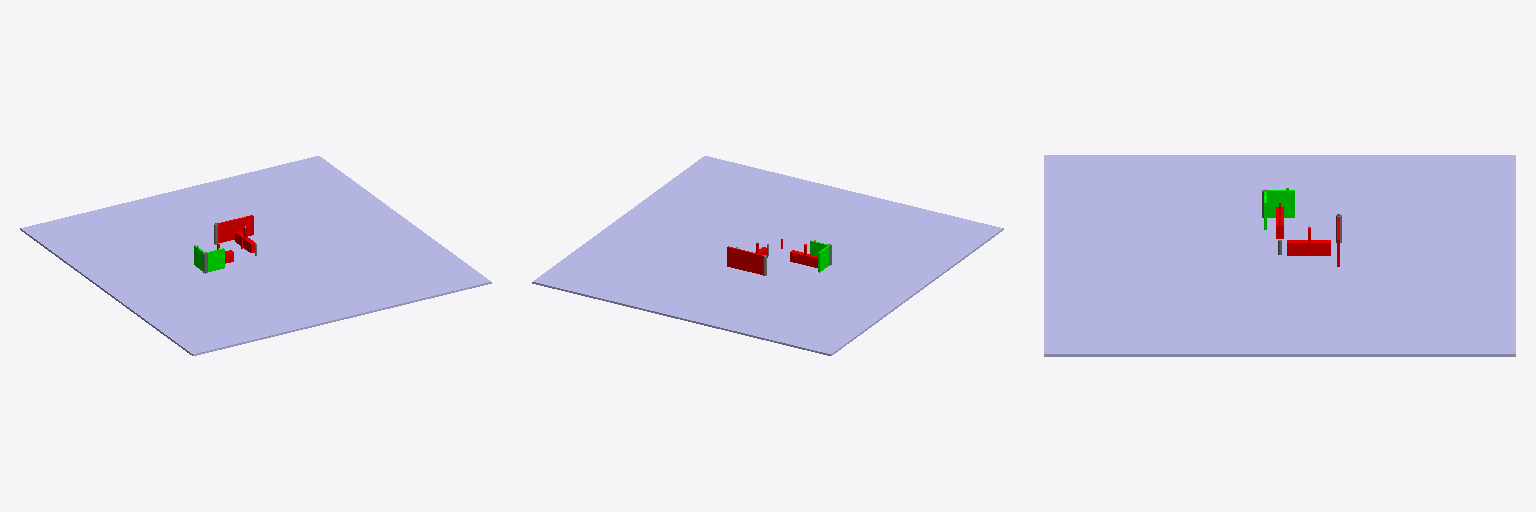
robot.urdf — lockbox2017:
<?xml version="1.0"?>
<!-- created with Phobos 1.0.1 "Capricious Choutengan" -->
  <robot name="lockbox2017">

    <link name="base_link">
      <inertial>
        <origin xyz="0 0 0" rpy="0 0 0"/>
        <mass value="0.001"/>
        <inertia ixx="0.001" ixy="0" ixz="0" iyy="0.001" iyz="0" izz="0.001"/>
      </inertial>
    </link>

    <link name="goal">
      <inertial>
        <origin xyz="0 0 0" rpy="0 0 0"/>
        <mass value="0.001"/>
        <inertia ixx="0.001" ixy="0" ixz="0" iyy="0.001" iyz="0" izz="0.001"/>
      </inertial>
      <visual name="visual_cylinder_1_link_0.001">
        <origin xyz="0 0 0" rpy="0 0 0"/>
        <geometry>
          <cylinder radius="0.19651" length="1.98503"/>
        </geometry>
        <material name="green_translucent"/>
      </visual>
    </link>

    <link name="link_0_joint_0">
      <inertial>
        <origin xyz="0 0 0" rpy="0 0 0"/>
        <mass value="0.001"/>
        <inertia ixx="0.001" ixy="0" ixz="0" iyy="0.001" iyz="0" izz="0.001"/>
      </inertial>
      <visual name="visual_cylinder_1_link_0">
        <origin xyz="0 0 0" rpy="0 0 0"/>
        <geometry>
          <cylinder radius="0.1975" length="1.995"/>
        </geometry>
        <material name="gray"/>
      </visual>
      <collision name="collision_cylinder_1_link_0">
        <origin xyz="0 0 0" rpy="0 0 0"/>
        <geometry>
          <cylinder radius="0.1975" length="1.995"/>
        </geometry>
      </collision>
    </link>

    <link name="link_1_joint_0">
      <inertial>
        <origin xyz="0 0 0" rpy="0 0 0"/>
        <mass value="0.001"/>
        <inertia ixx="0.001" ixy="0" ixz="0" iyy="0.001" iyz="0" izz="0.001"/>
      </inertial>
      <visual name="visual_box_5_link_1">
        <origin xyz="0 0 0" rpy="0 0 0"/>
        <geometry>
          <box size="2.995 0.495 0.995"/>
        </geometry>
        <material name="red"/>
      </visual>
      <collision name="collision_box_5_link_1">
        <origin xyz="0 0 0" rpy="0 0 0"/>
        <geometry>
          <box size="2.995 0.495 0.995"/>
        </geometry>
      </collision>
    </link>

    <link name="link_2_joint_0">
      <inertial>
        <origin xyz="0 0 0" rpy="0 0 0"/>
        <mass value="0.001"/>
        <inertia ixx="0.001" ixy="0" ixz="0" iyy="0.001" iyz="0" izz="0.001"/>
      </inertial>
      <visual name="visual_mesh_8_link_2">
        <origin xyz="0 0 0" rpy="0 0 0"/>
        <geometry>
          <mesh filename="file://[local-path]/ba/puzzle-generator/puzzles/lockbox2017/meshes/stl/slot_disc.stl" scale="1.0 1.0 1.0"/>
        </geometry>
        <material name="red"/>
      </visual>
      <collision concave="yes" name="collision_mesh_8_link_2">
        <origin xyz="0 0 0" rpy="0 0 0"/>
        <geometry>
          <mesh filename="file://[local-path]/ba/puzzle-generator/puzzles/lockbox2017/meshes/stl/slot_disc.001.stl" scale="1.0 1.0 1.0"/>
        </geometry>
      </collision>
    </link>

    <link name="link_3_joint_0">
      <inertial>
        <origin xyz="0 0 0" rpy="0 0 0"/>
        <mass value="0.001"/>
        <inertia ixx="0.001" ixy="0" ixz="0" iyy="0.001" iyz="0" izz="0.001"/>
      </inertial>
      <visual name="visual_box_12_link_3">
        <origin xyz="0 0 0" rpy="0 0 0"/>
        <geometry>
          <box size="2.995 0.495 0.995"/>
        </geometry>
        <material name="red"/>
      </visual>
      <collision name="collision_box_12_link_3">
        <origin xyz="0 0 0" rpy="0 0 0"/>
        <geometry>
          <box size="2.995 0.495 0.995"/>
        </geometry>
      </collision>
    </link>

    <link name="link_4_joint_0">
      <inertial>
        <origin xyz="0 0 0" rpy="0 0 0"/>
        <mass value="0.001"/>
        <inertia ixx="0.001" ixy="0" ixz="0" iyy="0.001" iyz="0" izz="0.001"/>
      </inertial>
      <visual name="visual_cylinder_15_link_4">
        <origin xyz="0 0 0" rpy="0 0 0"/>
        <geometry>
          <cylinder radius="0.1975" length="1.995"/>
        </geometry>
        <material name="gray"/>
      </visual>
      <collision name="collision_cylinder_15_link_4">
        <origin xyz="0 0 0" rpy="0 0 0"/>
        <geometry>
          <cylinder radius="0.1975" length="1.995"/>
        </geometry>
      </collision>
    </link>

    <link name="link_fixed_0_floor">
      <inertial>
        <origin xyz="0 0 0" rpy="0 0 0"/>
        <mass value="0.001"/>
        <inertia ixx="0.001" ixy="0" ixz="0" iyy="0.001" iyz="0" izz="0.001"/>
      </inertial>
      <visual name="visual_box_fixed_0_floor">
        <origin xyz="0 0 0" rpy="0 0 0"/>
        <geometry>
          <box size="31.995 31.995 0.195"/>
        </geometry>
        <material name="lavender"/>
      </visual>
      <collision name="collision_box_fixed_0_floor">
        <origin xyz="0 0 0" rpy="0 0 0"/>
        <geometry>
          <box size="31.995 31.995 0.195"/>
        </geometry>
      </collision>
    </link>

    <link name="link_fixed_10_handle_shaft">
      <inertial>
        <origin xyz="0 0 0" rpy="0 0 0"/>
        <mass value="0.001"/>
        <inertia ixx="0.001" ixy="0" ixz="0" iyy="0.001" iyz="0" izz="0.001"/>
      </inertial>
      <visual name="visual_cylinder_fixed_10_handle_shaft">
        <origin xyz="0 0 0" rpy="0 0 0"/>
        <geometry>
          <cylinder radius="0.0975" length="0.995"/>
        </geometry>
        <material name="red"/>
      </visual>
      <collision name="collision_cylinder_fixed_10_handle_shaft">
        <origin xyz="0 0 0" rpy="0 0 0"/>
        <geometry>
          <cylinder radius="0.0975" length="0.995"/>
        </geometry>
      </collision>
    </link>

    <link name="link_fixed_11_handle_knob">
      <inertial>
        <origin xyz="0 0 0" rpy="0 0 0"/>
        <mass value="0.001"/>
        <inertia ixx="0.001" ixy="0" ixz="0" iyy="0.001" iyz="0" izz="0.001"/>
      </inertial>
      <visual name="visual_box_fixed_11_handle_knob">
        <origin xyz="0 0 0" rpy="0 0 0"/>
        <geometry>
          <box size="0.045 0.045 0.195"/>
        </geometry>
        <material name="yellow"/>
      </visual>
      <collision name="collision_box_fixed_11_handle_knob">
        <origin xyz="0 0 0" rpy="0 0 0"/>
        <geometry>
          <box size="0.045 0.045 0.195"/>
        </geometry>
      </collision>
    </link>

    <link name="link_fixed_13_handle_shaft">
      <inertial>
        <origin xyz="0 0 0" rpy="0 0 0"/>
        <mass value="0.001"/>
        <inertia ixx="0.001" ixy="0" ixz="0" iyy="0.001" iyz="0" izz="0.001"/>
      </inertial>
      <visual name="visual_box_fixed_13_handle_shaft">
        <origin xyz="0 0 0" rpy="0 0 0"/>
        <geometry>
          <box size="0.195 0.195 0.995"/>
        </geometry>
        <material name="red"/>
      </visual>
      <collision name="collision_box_fixed_13_handle_shaft">
        <origin xyz="0 0 0" rpy="0 0 0"/>
        <geometry>
          <box size="0.195 0.195 0.995"/>
        </geometry>
      </collision>
    </link>

    <link name="link_fixed_14_handle_knob">
      <inertial>
        <origin xyz="0 0 0" rpy="0 0 0"/>
        <mass value="0.001"/>
        <inertia ixx="0.001" ixy="0" ixz="0" iyy="0.001" iyz="0" izz="0.001"/>
      </inertial>
      <visual name="visual_box_fixed_14_handle_knob">
        <origin xyz="0 0 0" rpy="0 0 0"/>
        <geometry>
          <box size="0.045 0.045 0.195"/>
        </geometry>
        <material name="yellow"/>
      </visual>
      <collision name="collision_box_fixed_14_handle_knob">
        <origin xyz="0 0 0" rpy="0 0 0"/>
        <geometry>
          <box size="0.045 0.045 0.195"/>
        </geometry>
      </collision>
    </link>

    <link name="link_fixed_16_hinge">
      <inertial>
        <origin xyz="0 0 0" rpy="0 0 0"/>
        <mass value="0.001"/>
        <inertia ixx="0.001" ixy="0" ixz="0" iyy="0.001" iyz="0" izz="0.001"/>
      </inertial>
      <visual name="visual_cylinder_fixed_16_hinge">
        <origin xyz="0 0 0" rpy="0 0 0"/>
        <geometry>
          <cylinder radius="0.0475" length="2.195"/>
        </geometry>
        <material name="gray"/>
      </visual>
    </link>

    <link name="link_fixed_17_door_panel">
      <inertial>
        <origin xyz="0 0 0" rpy="0 0 0"/>
        <mass value="0.001"/>
        <inertia ixx="0.001" ixy="0" ixz="0" iyy="0.001" iyz="0" izz="0.001"/>
      </inertial>
      <visual name="visual_box_fixed_17_door_panel">
        <origin xyz="0 0 0" rpy="0 0 0"/>
        <geometry>
          <box size="3.995 0.195 1.99"/>
        </geometry>
        <material name="red"/>
      </visual>
      <collision name="collision_box_fixed_17_door_panel">
        <origin xyz="0 0 0" rpy="0 0 0"/>
        <geometry>
          <box size="3.995 0.195 1.99"/>
        </geometry>
      </collision>
    </link>

    <link name="link_fixed_18_door_handle">
      <inertial>
        <origin xyz="0 0 0" rpy="0 0 0"/>
        <mass value="0.001"/>
        <inertia ixx="0.001" ixy="0" ixz="0" iyy="0.001" iyz="0" izz="0.001"/>
      </inertial>
      <visual name="visual_box_fixed_18_door_handle">
        <origin xyz="0 0 0" rpy="0 0 0"/>
        <geometry>
          <box size="0.195 0.045 0.195"/>
        </geometry>
        <material name="yellow"/>
      </visual>
      <collision name="collision_box_fixed_18_door_handle">
        <origin xyz="0 0 0" rpy="0 0 0"/>
        <geometry>
          <box size="0.195 0.045 0.195"/>
        </geometry>
      </collision>
    </link>

    <link name="link_fixed_2_hinge">
      <inertial>
        <origin xyz="0 0 0" rpy="0 0 0"/>
        <mass value="0.001"/>
        <inertia ixx="0.001" ixy="0" ixz="0" iyy="0.001" iyz="0" izz="0.001"/>
      </inertial>
      <visual name="visual_cylinder_fixed_2_hinge">
        <origin xyz="0 0 0" rpy="0 0 0"/>
        <geometry>
          <cylinder radius="0.0475" length="2.195"/>
        </geometry>
        <material name="gray"/>
      </visual>
    </link>

    <link name="link_fixed_2_hinge.001">
      <inertial>
        <origin xyz="0 0 0" rpy="0 0 0"/>
        <mass value="0.001"/>
        <inertia ixx="0.001" ixy="0" ixz="0" iyy="0.001" iyz="0" izz="0.001"/>
      </inertial>
      <visual name="visual_cylinder_fixed_2_hinge.001">
        <origin xyz="0 0 0" rpy="0 0 0"/>
        <geometry>
          <cylinder radius="0.04726" length="2.18403"/>
        </geometry>
        <material name="green_translucent"/>
      </visual>
    </link>

    <link name="link_fixed_3_door_panel">
      <inertial>
        <origin xyz="0 0 0" rpy="0 0 0"/>
        <mass value="0.001"/>
        <inertia ixx="0.001" ixy="0" ixz="0" iyy="0.001" iyz="0" izz="0.001"/>
      </inertial>
      <visual name="visual_box_fixed_3_door_panel">
        <origin xyz="0 0 0" rpy="0 0 0"/>
        <geometry>
          <box size="1.995 0.195 1.99"/>
        </geometry>
        <material name="green"/>
      </visual>
      <collision name="collision_box_fixed_3_door_panel">
        <origin xyz="0 0 0" rpy="0 0 0"/>
        <geometry>
          <box size="1.995 0.195 1.99"/>
        </geometry>
      </collision>
    </link>

    <link name="link_fixed_3_door_panel.001">
      <inertial>
        <origin xyz="0 0 0" rpy="0 0 0"/>
        <mass value="0.001"/>
        <inertia ixx="0.001" ixy="0" ixz="0" iyy="0.001" iyz="0" izz="0.001"/>
      </inertial>
      <visual name="visual_box_fixed_3_door_panel.001">
        <origin xyz="0 0 0" rpy="0 0 0"/>
        <geometry>
          <box size="1.98503 0.19402 1.98005"/>
        </geometry>
        <material name="green_translucent"/>
      </visual>
    </link>

    <link name="link_fixed_4_door_handle">
      <inertial>
        <origin xyz="0 0 0" rpy="0 0 0"/>
        <mass value="0.001"/>
        <inertia ixx="0.001" ixy="0" ixz="0" iyy="0.001" iyz="0" izz="0.001"/>
      </inertial>
      <visual name="visual_box_fixed_4_door_handle">
        <origin xyz="0 0 0" rpy="0 0 0"/>
        <geometry>
          <box size="0.195 0.045 0.195"/>
        </geometry>
        <material name="yellow"/>
      </visual>
      <collision name="collision_box_fixed_4_door_handle">
        <origin xyz="0 0 0" rpy="0 0 0"/>
        <geometry>
          <box size="0.195 0.045 0.195"/>
        </geometry>
      </collision>
    </link>

    <link name="link_fixed_4_door_handle.001">
      <inertial>
        <origin xyz="0 0 0" rpy="0 0 0"/>
        <mass value="0.001"/>
        <inertia ixx="0.001" ixy="0" ixz="0" iyy="0.001" iyz="0" izz="0.001"/>
      </inertial>
      <visual name="visual_box_fixed_4_door_handle.001">
        <origin xyz="0 0 0" rpy="0 0 0"/>
        <geometry>
          <box size="0.19402 0.04478 0.19402"/>
        </geometry>
        <material name="green_translucent"/>
      </visual>
    </link>

    <link name="link_fixed_6_handle_shaft">
      <inertial>
        <origin xyz="0 0 0" rpy="0 0 0"/>
        <mass value="0.001"/>
        <inertia ixx="0.001" ixy="0" ixz="0" iyy="0.001" iyz="0" izz="0.001"/>
      </inertial>
      <visual name="visual_box_fixed_6_handle_shaft">
        <origin xyz="0 0 0" rpy="0 0 0"/>
        <geometry>
          <box size="0.195 0.195 0.995"/>
        </geometry>
        <material name="red"/>
      </visual>
      <collision name="collision_box_fixed_6_handle_shaft">
        <origin xyz="0 0 0" rpy="0 0 0"/>
        <geometry>
          <box size="0.195 0.195 0.995"/>
        </geometry>
      </collision>
    </link>

    <link name="link_fixed_7_handle_knob">
      <inertial>
        <origin xyz="0 0 0" rpy="0 0 0"/>
        <mass value="0.001"/>
        <inertia ixx="0.001" ixy="0" ixz="0" iyy="0.001" iyz="0" izz="0.001"/>
      </inertial>
      <visual name="visual_box_fixed_7_handle_knob">
        <origin xyz="0 0 0" rpy="0 0 0"/>
        <geometry>
          <box size="0.045 0.045 0.195"/>
        </geometry>
        <material name="yellow"/>
      </visual>
      <collision name="collision_box_fixed_7_handle_knob">
        <origin xyz="0 0 0" rpy="0 0 0"/>
        <geometry>
          <box size="0.045 0.045 0.195"/>
        </geometry>
      </collision>
    </link>

    <link name="link_fixed_9_hinge">
      <inertial>
        <origin xyz="0 0 0" rpy="0 0 0"/>
        <mass value="0.001"/>
        <inertia ixx="0.001" ixy="0" ixz="0" iyy="0.001" iyz="0" izz="0.001"/>
      </inertial>
      <visual name="visual_cylinder_fixed_9_hinge">
        <origin xyz="0 0 0" rpy="0 0 0"/>
        <geometry>
          <cylinder radius="0.1225" length="1.095"/>
        </geometry>
        <material name="gray"/>
      </visual>
    </link>

    <joint name="goal" type="fixed">
      <origin xyz="-6.0 -1.0 1.0" rpy="0 0 1.5708"/>
      <parent link="base_link"/>
      <child link="goal"/>
      <limit effort="0" velocity="0"/>
    </joint>

    <joint name="link_0_joint_0" type="revolute">
      <origin xyz="-6.0 -1.0 1.0" rpy="0 0 0"/>
      <parent link="base_link"/>
      <child link="link_0_joint_0"/>
      <axis xyz="0 0 1.0"/>
      <limit lower="0" upper="1.5708" effort="0" velocity="0"/>
    </joint>

    <joint name="link_1_joint_0" type="prismatic">
      <origin xyz="-4.0 0 0.5" rpy="0 0 0"/>
      <parent link="base_link"/>
      <child link="link_1_joint_0"/>
      <axis xyz="1.0 0 0"/>
      <limit lower="0" upper="2.0" effort="0" velocity="0"/>
    </joint>

    <joint name="link_2_joint_0" type="revolute">
      <origin xyz="0 0 0.5" rpy="0 0 1.5708"/>
      <parent link="base_link"/>
      <child link="link_2_joint_0"/>
      <axis xyz="0 0 1.0"/>
      <limit lower="0" upper="1.5708" effort="0" velocity="0"/>
    </joint>

    <joint name="link_3_joint_0" type="prismatic">
      <origin xyz="0 2.0 0.5" rpy="0 0 1.5708"/>
      <parent link="base_link"/>
      <child link="link_3_joint_0"/>
      <axis xyz="1.0 0 0"/>
      <limit lower="0" upper="2.0" effort="0" velocity="0"/>
    </joint>

    <joint name="link_4_joint_0" type="revolute">
      <origin xyz="-2.0 4.0 1.0" rpy="0 0 0"/>
      <parent link="base_link"/>
      <child link="link_4_joint_0"/>
      <axis xyz="0 0 1.0"/>
      <limit lower="0" upper="1.5708" effort="0" velocity="0"/>
    </joint>

    <joint name="link_fixed_0_floor" type="fixed">
      <origin xyz="0 0 -0.1" rpy="0 0 0"/>
      <parent link="base_link"/>
      <child link="link_fixed_0_floor"/>
    </joint>

    <joint name="link_fixed_10_handle_shaft" type="fixed">
      <origin xyz="0 1.5 1.0" rpy="0 0 0"/>
      <parent link="link_2_joint_0"/>
      <child link="link_fixed_10_handle_shaft"/>
    </joint>

    <joint name="link_fixed_11_handle_knob" type="fixed">
      <origin xyz="0 0 0.6" rpy="0 0 0"/>
      <parent link="link_fixed_10_handle_shaft"/>
      <child link="link_fixed_11_handle_knob"/>
    </joint>

    <joint name="link_fixed_13_handle_shaft" type="fixed">
      <origin xyz="0 0 1.0" rpy="0 0 0"/>
      <parent link="link_3_joint_0"/>
      <child link="link_fixed_13_handle_shaft"/>
    </joint>

    <joint name="link_fixed_14_handle_knob" type="fixed">
      <origin xyz="0 0 0.6" rpy="0 0 0"/>
      <parent link="link_fixed_13_handle_shaft"/>
      <child link="link_fixed_14_handle_knob"/>
    </joint>

    <joint name="link_fixed_16_hinge" type="fixed">
      <origin xyz="0 0 0" rpy="0 0 0"/>
      <parent link="link_4_joint_0"/>
      <child link="link_fixed_16_hinge"/>
    </joint>

    <joint name="link_fixed_17_door_panel" type="fixed">
      <origin xyz="2.0 0 0" rpy="0 0 0"/>
      <parent link="link_4_joint_0"/>
      <child link="link_fixed_17_door_panel"/>
    </joint>

    <joint name="link_fixed_18_door_handle" type="fixed">
      <origin xyz="3.0 0 1.1" rpy="0 0 0"/>
      <parent link="link_4_joint_0"/>
      <child link="link_fixed_18_door_handle"/>
    </joint>

    <joint name="link_fixed_2_hinge" type="fixed">
      <origin xyz="0 0 0" rpy="0 0 0"/>
      <parent link="link_0_joint_0"/>
      <child link="link_fixed_2_hinge"/>
    </joint>

    <joint name="link_fixed_2_hinge.001" type="fixed">
      <origin xyz="0 0 0" rpy="0 0 0"/>
      <parent link="goal"/>
      <child link="link_fixed_2_hinge.001"/>
    </joint>

    <joint name="link_fixed_3_door_panel" type="fixed">
      <origin xyz="1.0 0 0" rpy="0 0 0"/>
      <parent link="link_0_joint_0"/>
      <child link="link_fixed_3_door_panel"/>
    </joint>

    <joint name="link_fixed_3_door_panel.001" type="fixed">
      <origin xyz="0.995 0 0" rpy="0 0 0"/>
      <parent link="goal"/>
      <child link="link_fixed_3_door_panel.001"/>
    </joint>

    <joint name="link_fixed_4_door_handle" type="fixed">
      <origin xyz="1.5 0 1.1" rpy="0 0 0"/>
      <parent link="link_0_joint_0"/>
      <child link="link_fixed_4_door_handle"/>
    </joint>

    <joint name="link_fixed_4_door_handle.001" type="fixed">
      <origin xyz="1.4925 0 1.0945" rpy="0 0 0"/>
      <parent link="goal"/>
      <child link="link_fixed_4_door_handle.001"/>
    </joint>

    <joint name="link_fixed_6_handle_shaft" type="fixed">
      <origin xyz="0 0 1.0" rpy="0 0 0"/>
      <parent link="link_1_joint_0"/>
      <child link="link_fixed_6_handle_shaft"/>
    </joint>

    <joint name="link_fixed_7_handle_knob" type="fixed">
      <origin xyz="0 0 0.6" rpy="0 0 0"/>
      <parent link="link_fixed_6_handle_shaft"/>
      <child link="link_fixed_7_handle_knob"/>
    </joint>

    <joint name="link_fixed_9_hinge" type="fixed">
      <origin xyz="0 0 0" rpy="0 0 0"/>
      <parent link="link_2_joint_0"/>
      <child link="link_fixed_9_hinge"/>
    </joint>

    <material name="gray">
      <color rgba="0.5 0.5 0.5 1.0"/>
    </material>

    <material name="green">
      <color rgba="0 1.0 0 1.0"/>
    </material>

    <material name="green_translucent">
      <color rgba="0 1.0 0 0.25"/>
    </material>

    <material name="lavender">
      <color rgba="0.8 0.8 1.0 1.0"/>
    </material>

    <material name="red">
      <color rgba="1.0 0 0 1.0"/>
    </material>

    <material name="yellow">
      <color rgba="1.0 1.0 0 1.0"/>
    </material>

  </robot>

--- What the picture shows (computed from the rendered views, not written in the file) ---
3 views of the same robot in one strip: view 1: azimuth 30°, elevation 25°; view 2: azimuth 150°, elevation 25°; view 3: azimuth 270°, elevation 25° (orthographic).
Robot: lockbox2017 — 24 links, 23 joints (3 revolute, 2 prismatic, 18 fixed); root link base_link; default pose: all joints at 0.
Links seen in each view (by area): view 1: link_fixed_0_floor, link_fixed_17_door_panel; view 2: link_fixed_0_floor, link_fixed_17_door_panel; view 3: link_fixed_0_floor, link_3_joint_0, link_fixed_3_door_panel.001.
Boxes of the visible links, <box> form: link_fixed_0_floor: <box>20,156,491,355</box>; link_fixed_17_door_panel: <box>217,215,253,242</box>; link_fixed_0_floor: <box>532,156,1003,355</box>; link_fixed_17_door_panel: <box>727,246,762,274</box>; link_fixed_0_floor: <box>1044,155,1515,356</box>; link_3_joint_0: <box>1287,240,1330,255</box>; link_fixed_3_door_panel.001: <box>1268,190,1294,217</box>.
Size in the robot's own frame: 32 by 32 by 2.4 metres.
Geometry: only primitive shapes (box / cylinder / sphere) drawn; not drawn: 1 mesh visual (reference in a form the renderer does not follow).
